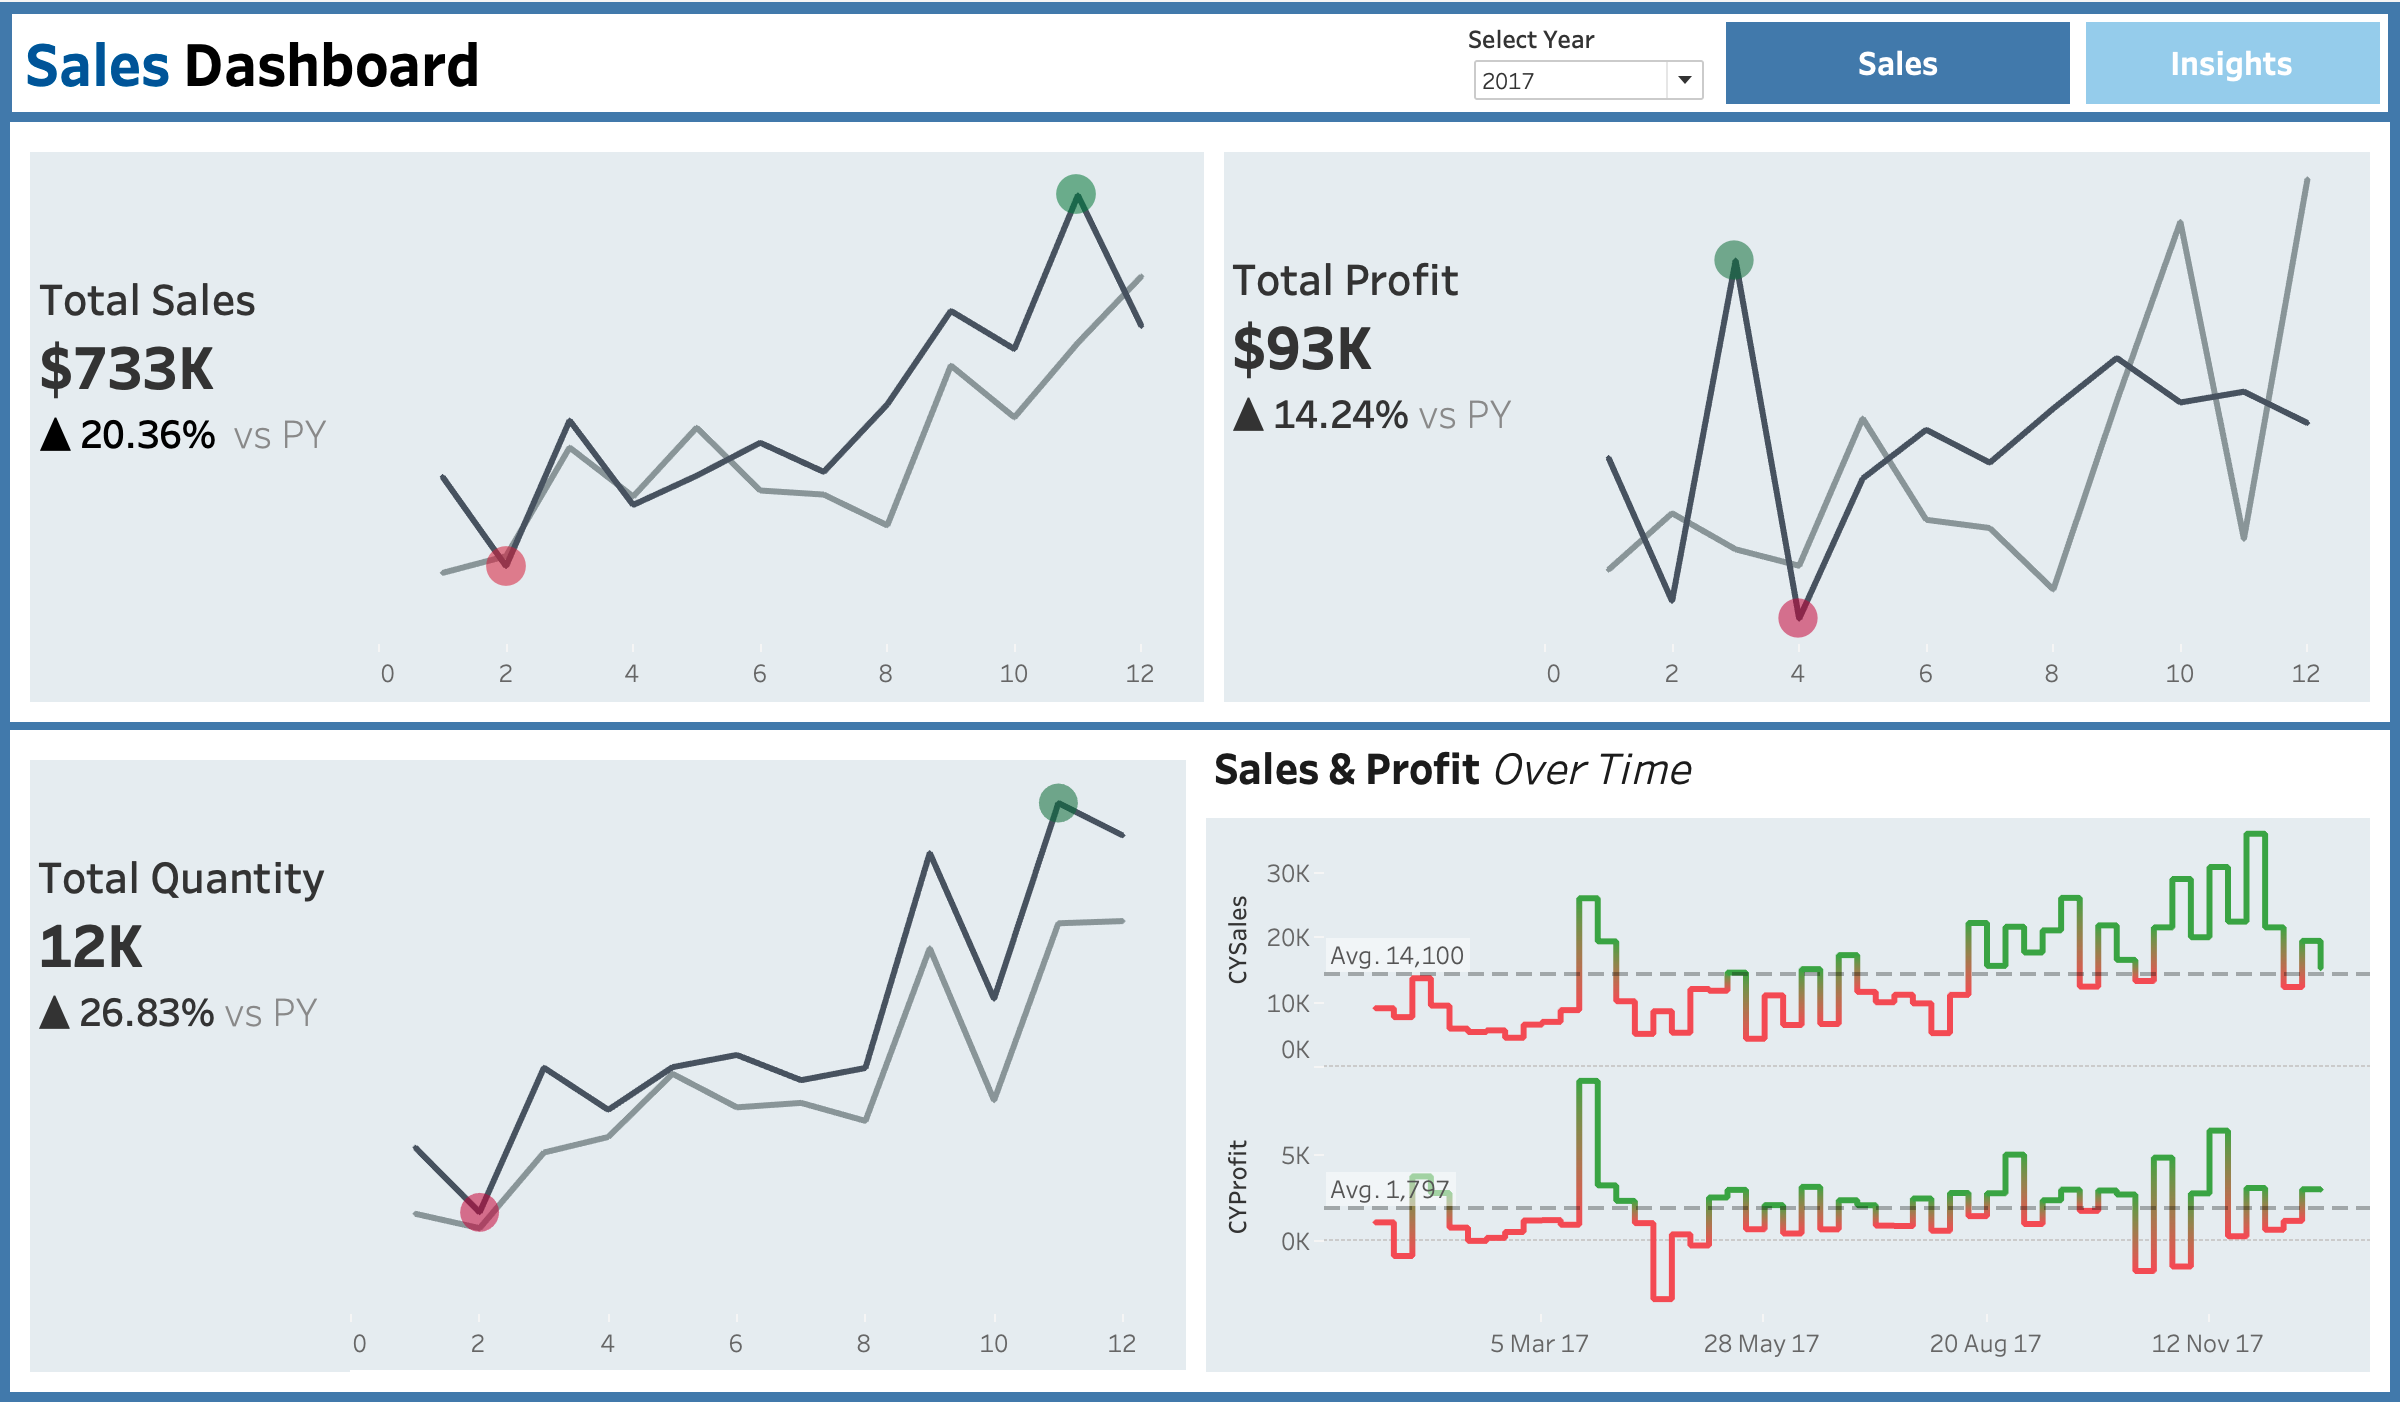

This screenshot's page, from the dashboard's own definition file:
{"tool":"tableau","page":{"name":"SalesDashboard","canvas":[1000,1000],"units":"permille","ordinal":1},"visuals":[{"type":"text","box":[5,8.6,603.3,70]},{"type":"parameter","param":"[Parameters].[Parameter 1]","box":[608.3,8.6,107.5,70]},{"type":"dashboard-object","box":[715.8,8.6,150,70]},{"type":"dashboard-object","box":[865.8,8.6,129.2,70]},{"type":"worksheet","title":"TotalSalesKPI","mark":"Automatic","box":[4.2,85.7,153.3,428.6]},{"type":"worksheet","title":"TotalSales","mark":"Automatic","rows":["Calculation_4880283554661847044"],"cols":["Order Date"],"box":[157.5,85.7,352.5,428.6]},{"type":"worksheet","title":"TotalProfitKPI","mark":"Automatic","box":[510,85.7,133.3,428.6]},{"type":"worksheet","title":"TotalProfit","mark":"Automatic","rows":["Calculation_4880283554806460436"],"cols":["Order Date"],"box":[643.3,85.7,352.5,428.6]},{"type":"worksheet","title":"TotalQuantityKPI","mark":"Automatic","box":[4.2,520,141.7,472.8]},{"type":"worksheet","title":"TotalQuantity","mark":"Automatic","rows":["Calculation_4880283554813997083"],"cols":["Order Date"],"box":[145.8,520,356.7,472.8]},{"type":"worksheet","title":"Weekly","mark":"Automatic","rows":["Calculation_4880283554651160576","Calculation_4880283554803195919"],"cols":["Order Date"],"box":[502.5,520,493.3,472.8]}]}

Visuals, with their boxes on the dashboard's canvas, which has no fixed pixel size, in thousandths of its width and height (x1, y1, x2, y2). These are canvas units, not pixel positions in the 2400x1402 screenshot, which may show the page scaled, cropped or inside an application window:
text: 5/9/608/79
parameter: 608/9/716/79
dashboard-object: 716/9/866/79
dashboard-object: 866/9/995/79
"TotalSalesKPI" worksheet: 4/86/158/514
"TotalSales" worksheet: 158/86/510/514
"TotalProfitKPI" worksheet: 510/86/643/514
"TotalProfit" worksheet: 643/86/996/514
"TotalQuantityKPI" worksheet: 4/520/146/993
"TotalQuantity" worksheet: 146/520/502/993
"Weekly" worksheet: 502/520/996/993
